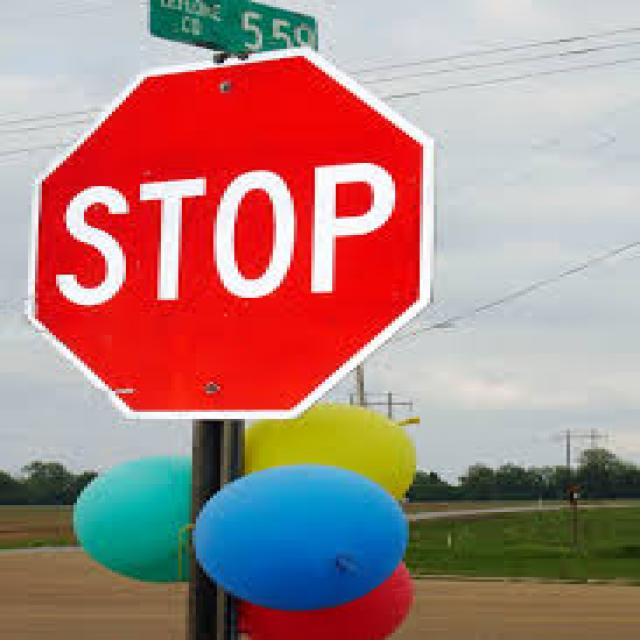stop-sign: (55, 142, 492, 326)
